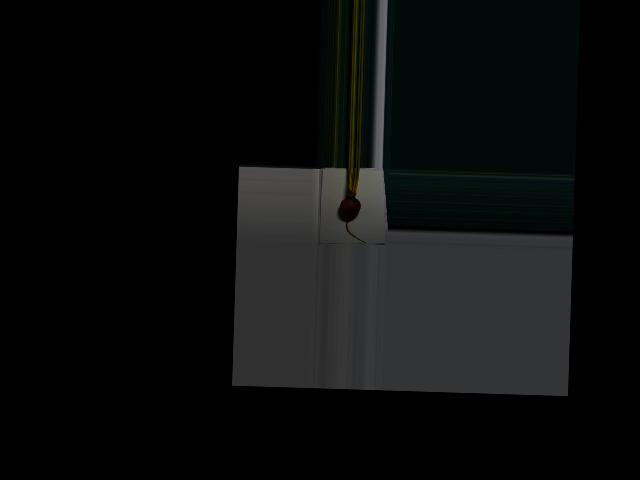beet: (338, 167, 367, 242)
